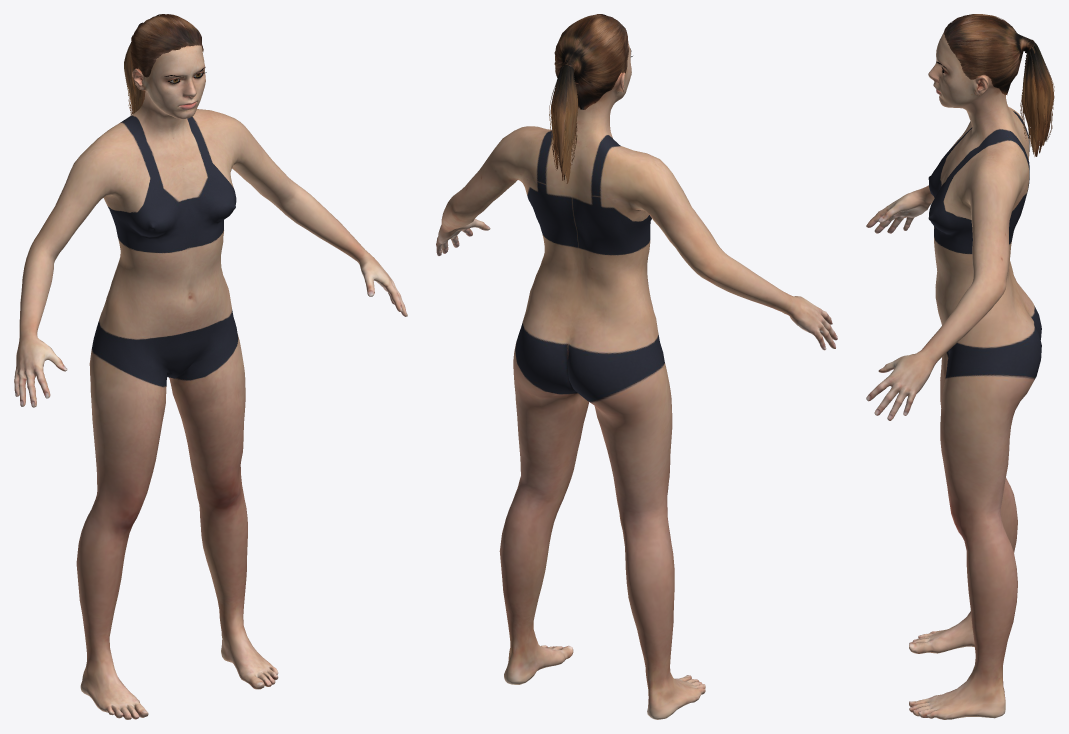
The model's file is body-female.glb.
3 renders of one model, left to right at view 1: azimuth 30°, elevation 25°; view 2: azimuth 150°, elevation 25°; view 3: azimuth 270°, elevation 25°, orthographic. The views are drawn at different scales.
Parts seen in each view (by area): view 1: body, hair; view 2: body, hair; view 3: body, hair.
Boxes of the visible parts, bbox=[...] form: body: bbox=[14, 45, 407, 719]; hair: bbox=[124, 14, 203, 115]; body: bbox=[436, 43, 837, 719]; hair: bbox=[549, 14, 628, 183]; body: bbox=[866, 32, 1041, 719]; hair: bbox=[944, 14, 1054, 156].
Size of the model in its own units: 1.01 by 1.67 by 0.4282.
Materials: 5 (5 with a texture image).
